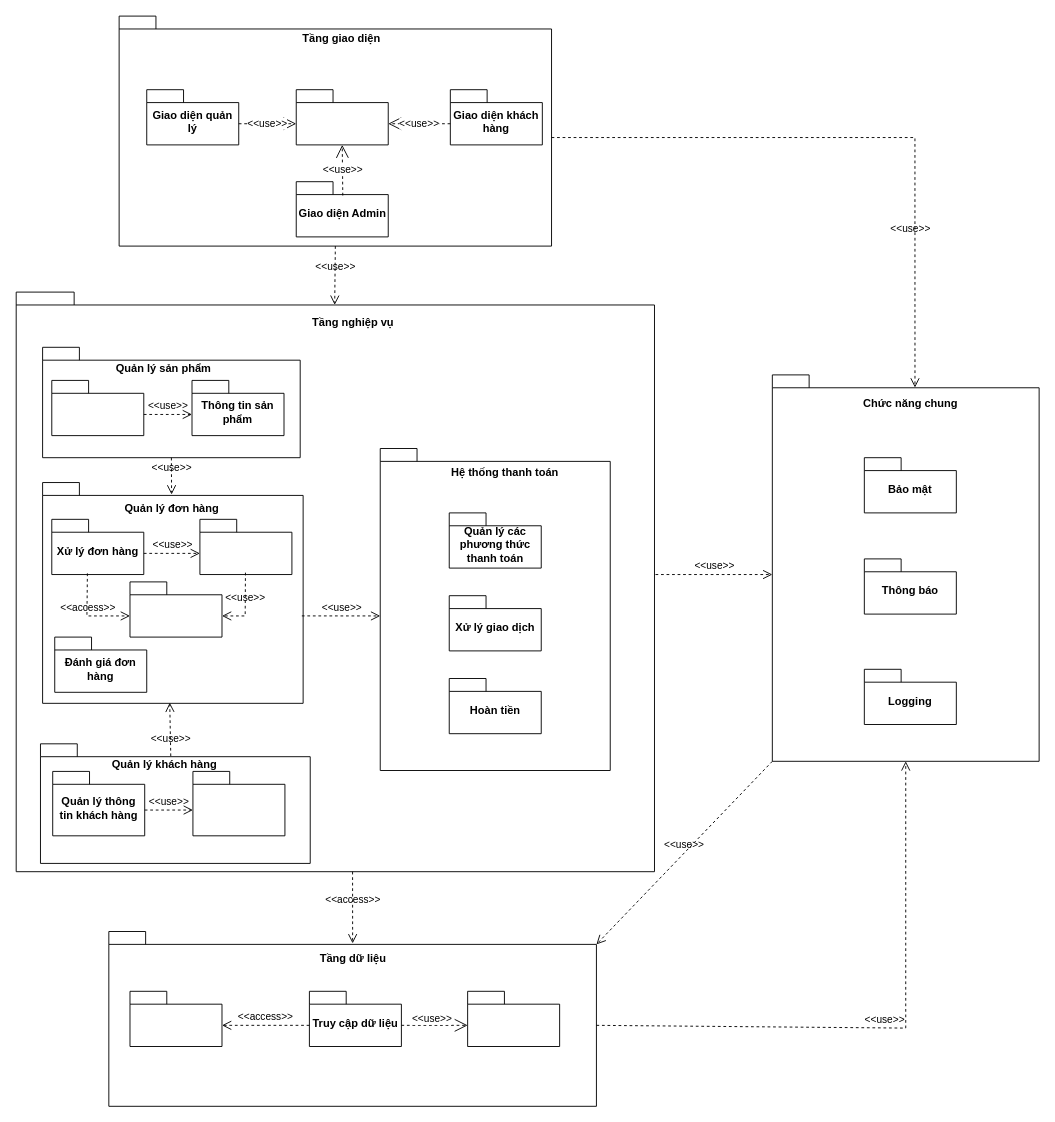
The diagram is 1055 pixels wide and 1122 high, and some of its shapes have lost their labels. Here are the shapes that lost their labels. From the top down, the centre of each, then its label:
the point at 341,117: UI
the point at 97,408: Quản lý danh mục
the point at 245,546: Theo dõi đơn hàng
the point at 175,609: Hoàn hàng
the point at 238,803: Quản lý lịch sử giao dịch
the point at 175,1018: Cơ sở dữ liệu
the point at 513,1018: Xác thực dữ liệu
